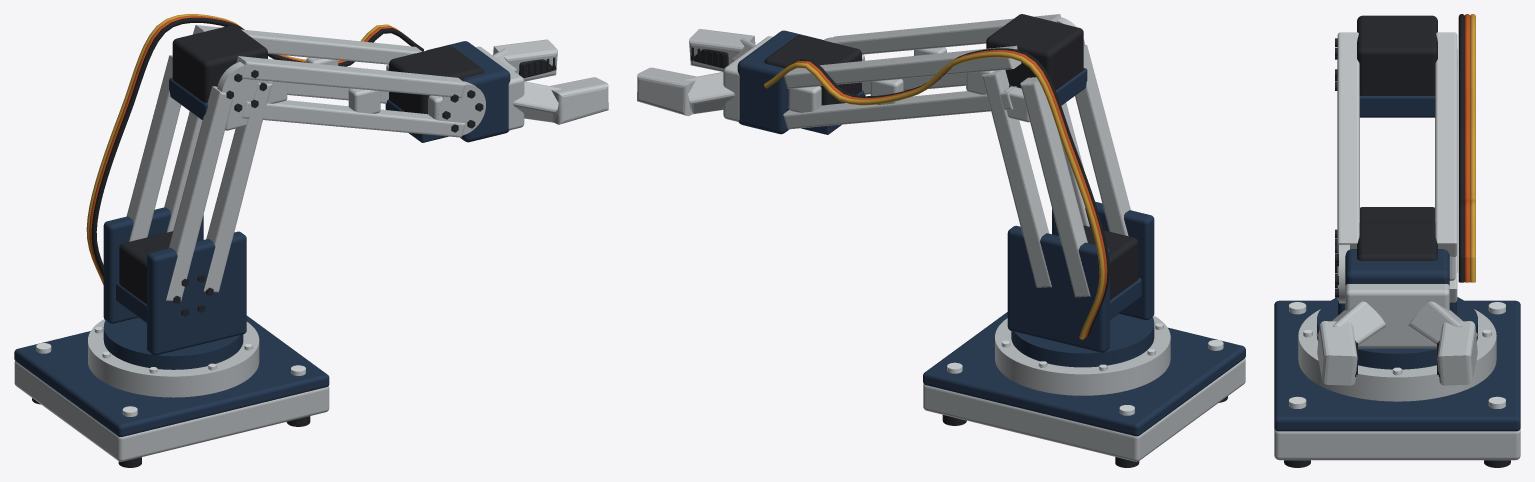
The model's file is robots-08.glb.
3 views of the same model, side by side, from view 1: azimuth 30°, elevation 25°; view 2: azimuth 150°, elevation 25°; view 3: azimuth 270°, elevation 25° (orthographic). The views are drawn at different scales.
Parts seen in each view (by area): view 1: base, upper, forearm, brackets, servos, slew, jaws, wiring, wrist, pivots; view 2: base, upper, forearm, brackets, servos, slew, wiring, jaws, wrist; view 3: base, servos, forearm, slew, wrist, jaws, wiring, pivots, upper, feet.
Part boxes in pixels (bbox=[...]): base: bbox=[14, 315, 329, 461]; upper: bbox=[126, 55, 271, 301]; forearm: bbox=[193, 25, 465, 137]; brackets: bbox=[103, 207, 246, 355]; servos: bbox=[116, 25, 484, 322]; slew: bbox=[88, 317, 259, 397]; jaws: bbox=[492, 39, 608, 124]; wiring: bbox=[86, 14, 423, 284]; wrist: bbox=[426, 41, 524, 142]; pivots: bbox=[173, 62, 485, 316]; base: bbox=[923, 312, 1245, 461]; upper: bbox=[982, 45, 1130, 297]; forearm: bbox=[783, 14, 1060, 129]; brackets: bbox=[1007, 201, 1154, 352]; servos: bbox=[764, 14, 1141, 319]; slew: bbox=[995, 313, 1170, 395]; wiring: bbox=[764, 48, 1109, 339]; jaws: bbox=[637, 29, 755, 116]; wrist: bbox=[723, 30, 823, 134]; base: bbox=[1274, 300, 1520, 460]; servos: bbox=[1357, 15, 1437, 260]; forearm: bbox=[1337, 32, 1457, 302]; slew: bbox=[1298, 297, 1496, 401]; wrist: bbox=[1345, 249, 1449, 348]; jaws: bbox=[1316, 301, 1478, 385]; wiring: bbox=[1458, 14, 1475, 282]; pivots: bbox=[1335, 38, 1349, 303]; upper: bbox=[1337, 49, 1457, 272]; feet: bbox=[1284, 460, 1510, 467].
Size of the model in its own units: 3.07 by 2.08 by 1.11.
